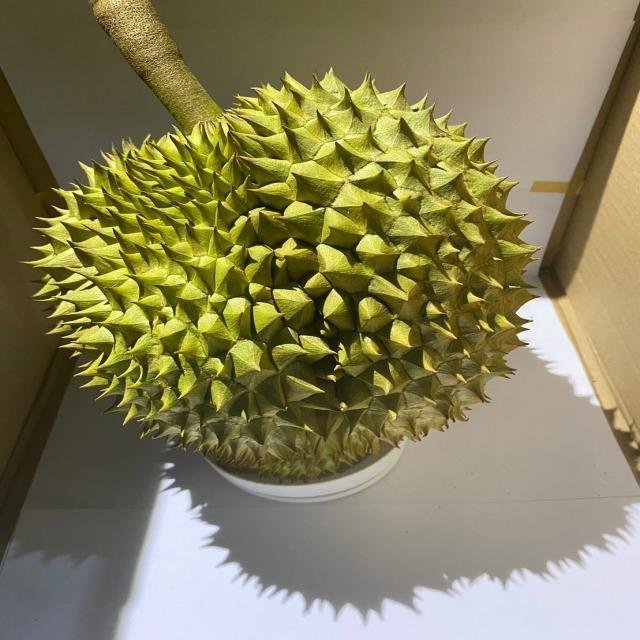immature: (21, 63, 541, 480)
